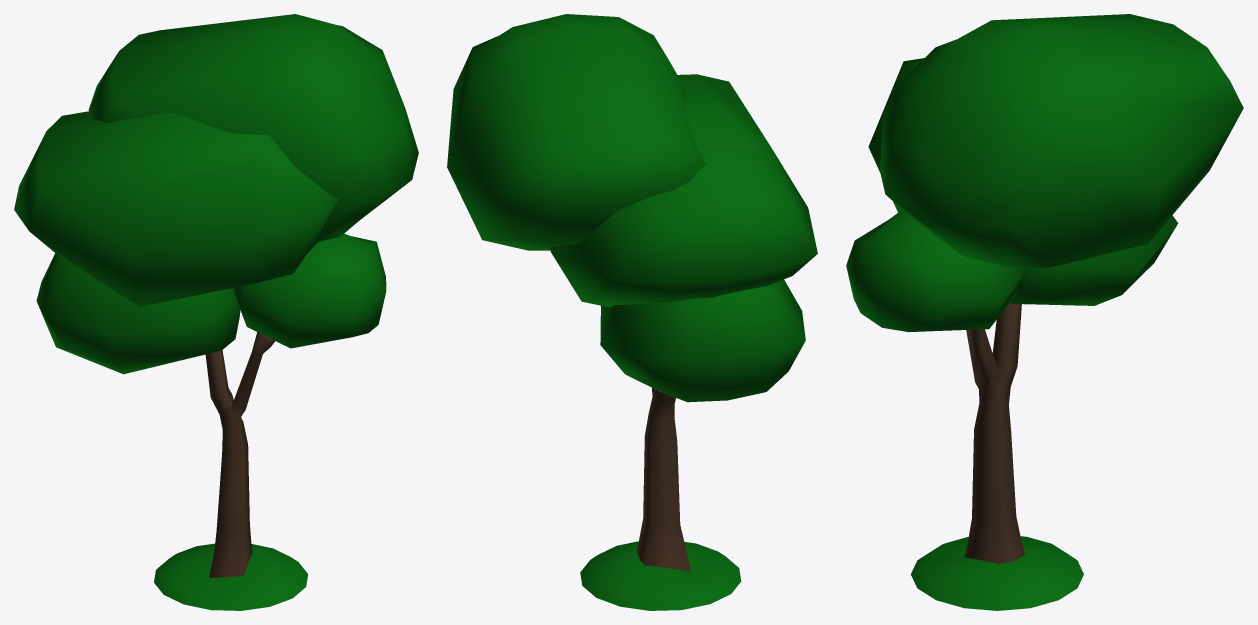
The model's file is tree 2.fbx.
3 renders of one model, left to right at view 1: azimuth 30°, elevation 25°; view 2: azimuth 150°, elevation 25°; view 3: azimuth 270°, elevation 25°, orthographic. The views are drawn at different scales.
Visible parts, largest first — view 1: Tree-01.003; view 2: Tree-01.003; view 3: Tree-01.003.
Boxes of the visible parts, x1=… form: Tree-01.003: x1=14, y1=14, x2=418, y2=610; Tree-01.003: x1=447, y1=14, x2=817, y2=610; Tree-01.003: x1=846, y1=14, x2=1243, y2=610.
Size of the model in its own units: 362 by 509 by 315.
